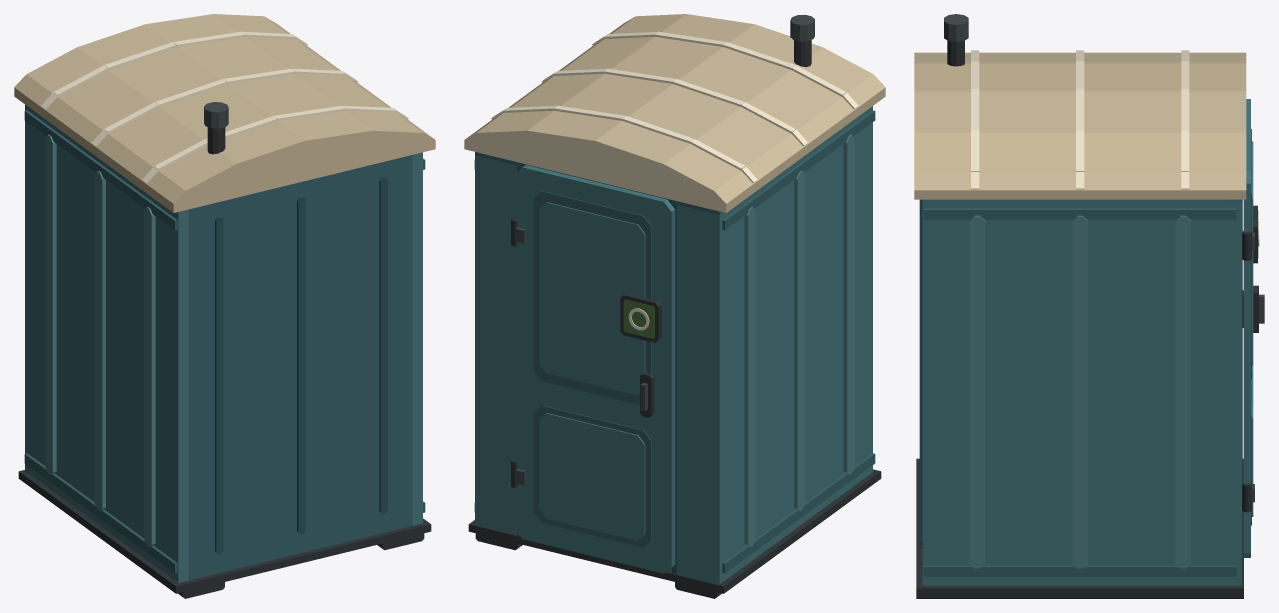
Rendered from lwf_portaloo_v1.glb.
3 renders of one model, left to right at view 1: azimuth 30°, elevation 25°; view 2: azimuth 150°, elevation 25°; view 3: azimuth 270°, elevation 25°, orthographic. The views are drawn at different scales.
Visible parts, largest first — view 1: Shell, Roof, BaseAndFloor, InteriorAndVent; view 2: Shell, DoorLeaf, Roof, BaseAndFloor, DoorHardware, InteriorAndVent, IndicatorFree, IndicatorFrame; view 3: Shell, Roof, BaseAndFloor, DoorLeaf, DoorHardware, InteriorAndVent.
Boxes of the visible parts, x1=… form: Shell: x1=24, y1=104, x2=425, y2=582; Roof: x1=14, y1=14, x2=435, y2=212; BaseAndFloor: x1=18, y1=470, x2=431, y2=598; InteriorAndVent: x1=204, y1=102, x2=228, y2=154; Shell: x1=474, y1=106, x2=875, y2=584; DoorLeaf: x1=514, y1=165, x2=675, y2=573; Roof: x1=464, y1=14, x2=885, y2=212; BaseAndFloor: x1=468, y1=469, x2=881, y2=598; DoorHardware: x1=511, y1=217, x2=654, y2=488; InteriorAndVent: x1=790, y1=14, x2=814, y2=67; IndicatorFree: x1=623, y1=299, x2=654, y2=338; IndicatorFrame: x1=620, y1=293, x2=661, y2=342; Shell: x1=919, y1=199, x2=1242, y2=585; Roof: x1=914, y1=50, x2=1246, y2=199; BaseAndFloor: x1=916, y1=458, x2=1243, y2=598; DoorLeaf: x1=1243, y1=99, x2=1253, y2=557; DoorHardware: x1=1242, y1=231, x2=1264, y2=512; InteriorAndVent: x1=944, y1=14, x2=968, y2=66.
Bounding box in the file's own units: 1.5 × 2.55 × 1.67.
Materials: 1 (1 with a texture image).
